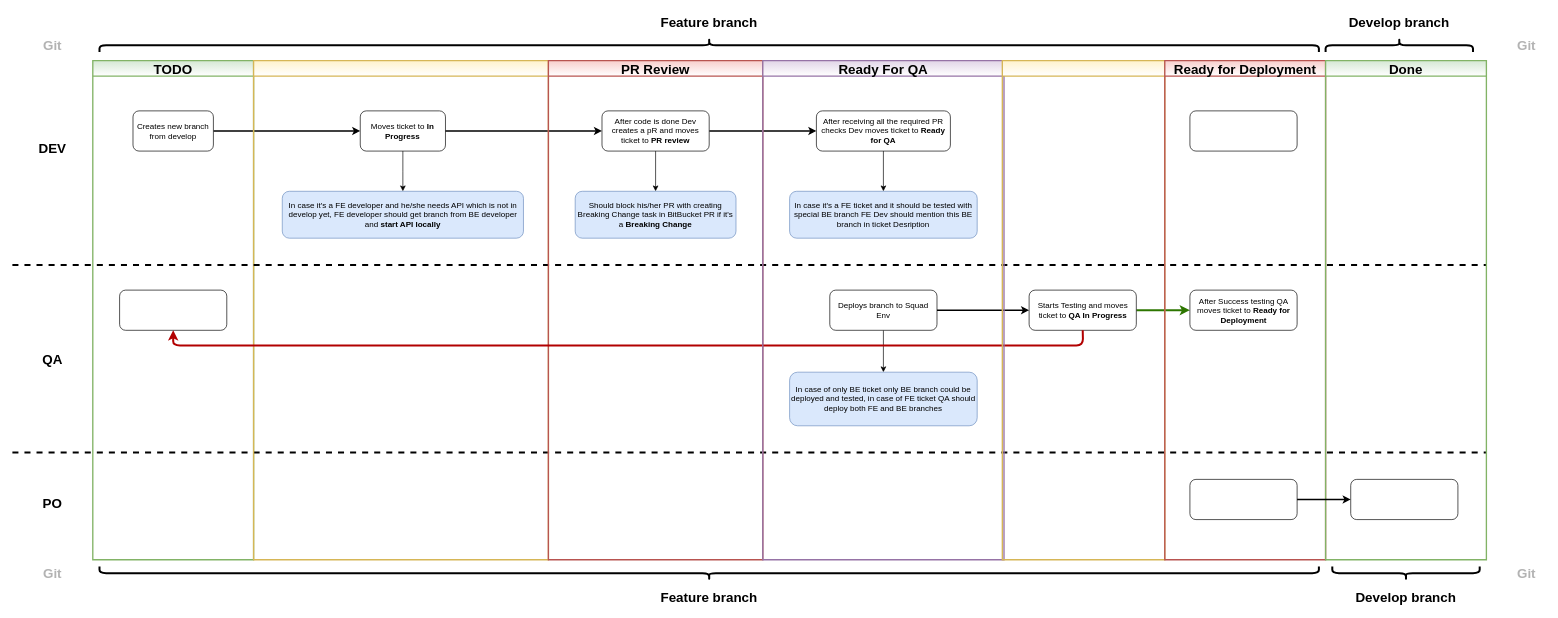
Some shapes in this 1558 by 618 pixel diagram are drawn without their labels. Here are the shapes that lost their labels. From the top down, the box of each, then its label:
(1189, 110, 1297, 151): When PO asks Dev should merge PR
(119, 289, 227, 330): After Failed testing QA moves ticket to TODO
(253, 60, 549, 560): In Progress
(1001, 60, 1165, 560): QA In Progress
(1189, 479, 1297, 520): PO can recheck Deployed to Squad Env code
(1350, 479, 1458, 520): After Success check PO should merge PR to develop and move ticket to Done
